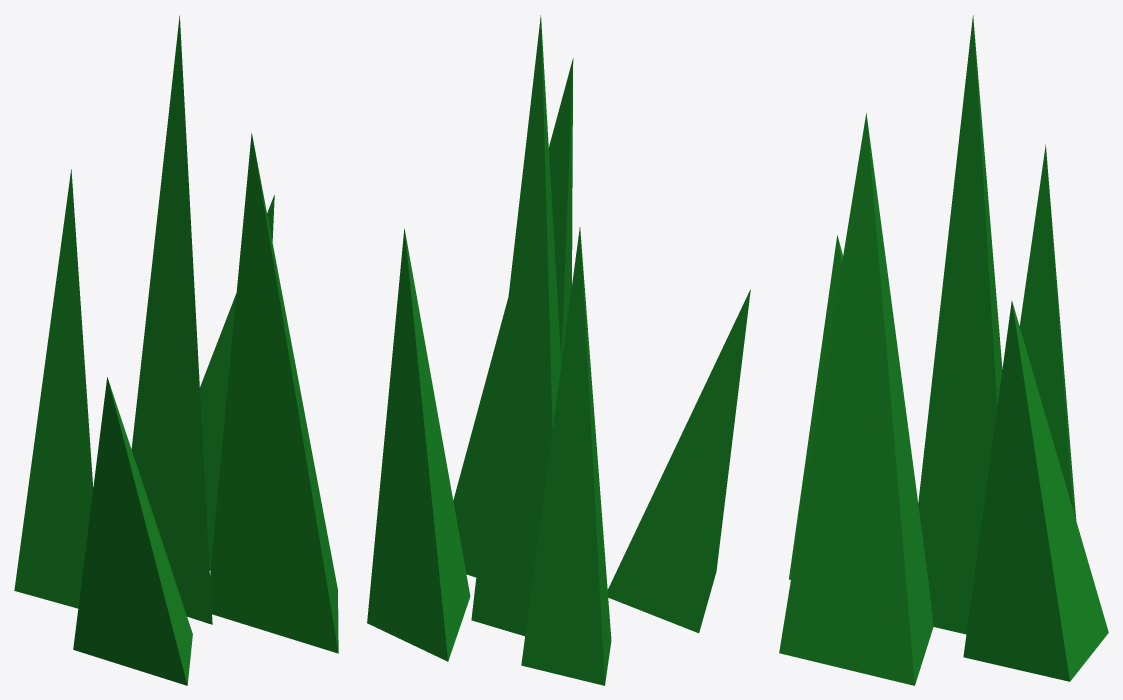
File: thorn_cluster.obj
The picture shows the model from 3 angles, left to right: view 1: azimuth 30°, elevation 25°; view 2: azimuth 150°, elevation 25°; view 3: azimuth 270°, elevation 25°; orthographic projection. The views are drawn at different scales.
Parts seen in each view (by area): view 1: ThornCluster; view 2: ThornCluster; view 3: ThornCluster.
Part boxes in pixels (<box>): ThornCluster: <box>14,15,338,685</box>; ThornCluster: <box>367,15,750,685</box>; ThornCluster: <box>779,15,1108,685</box>.
Size of the model in its own units: 0.66 by 1.38 by 0.68.
